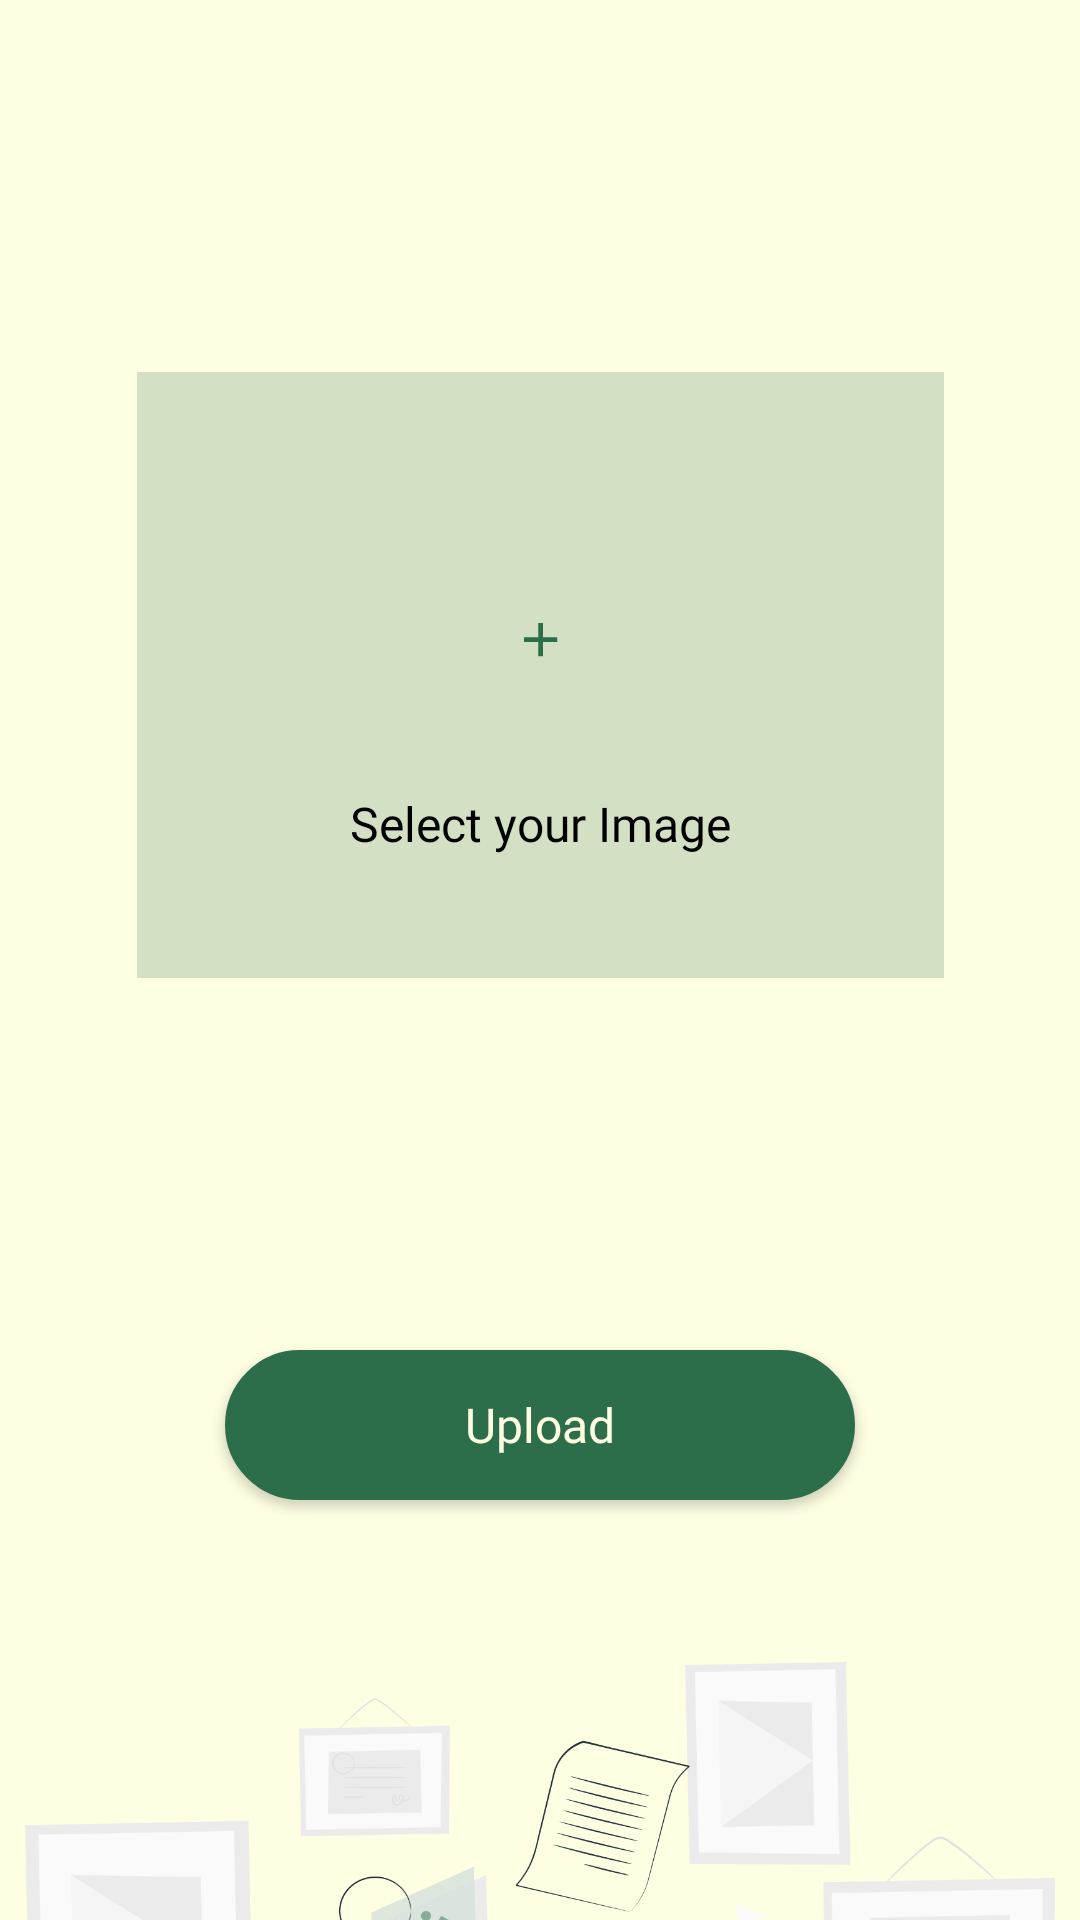

Icons on this 1080×1920 Android screen, each with its box as region(x1, y1, x2, y2):
add: region(524, 623, 558, 657)
